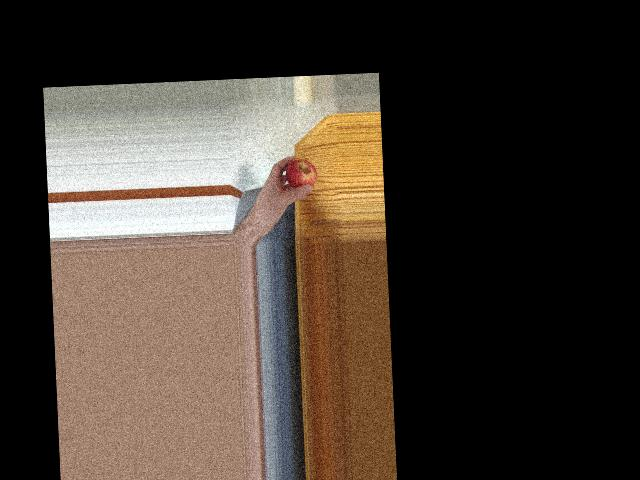apple: (284, 158, 317, 193)
